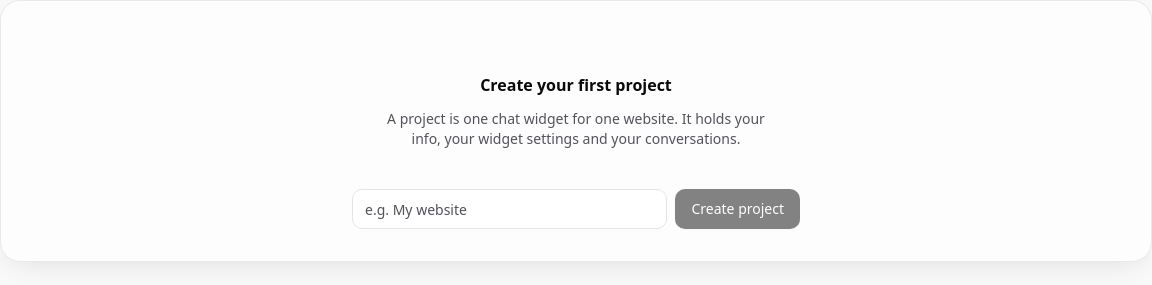
Test case: create › creates from the empty state and refreshes the list
Expected: the heading "Create your first project" is shown, left=480, top=73, right=672, bottom=97
Type "My site" into the field named "Project name" at [510, 209], box left=352, top=189, right=667, bottom=229
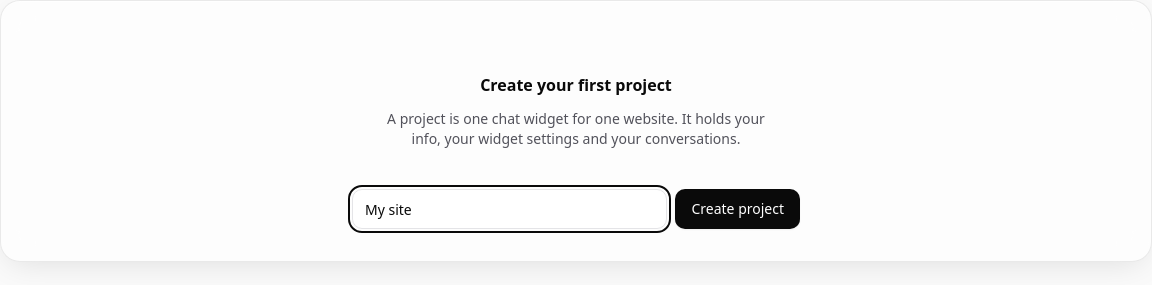
Click the button "Create project" at [738, 209], box left=675, top=189, right=800, bottom=229
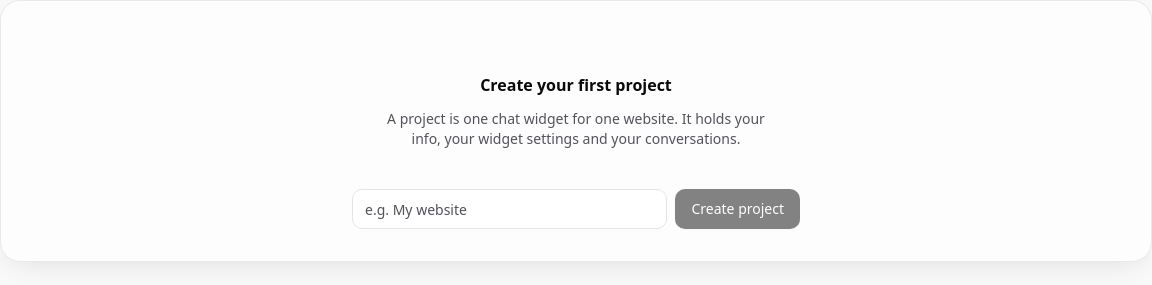
Result: the field named "Project name" is empty at left=352, top=189, right=667, bottom=229
